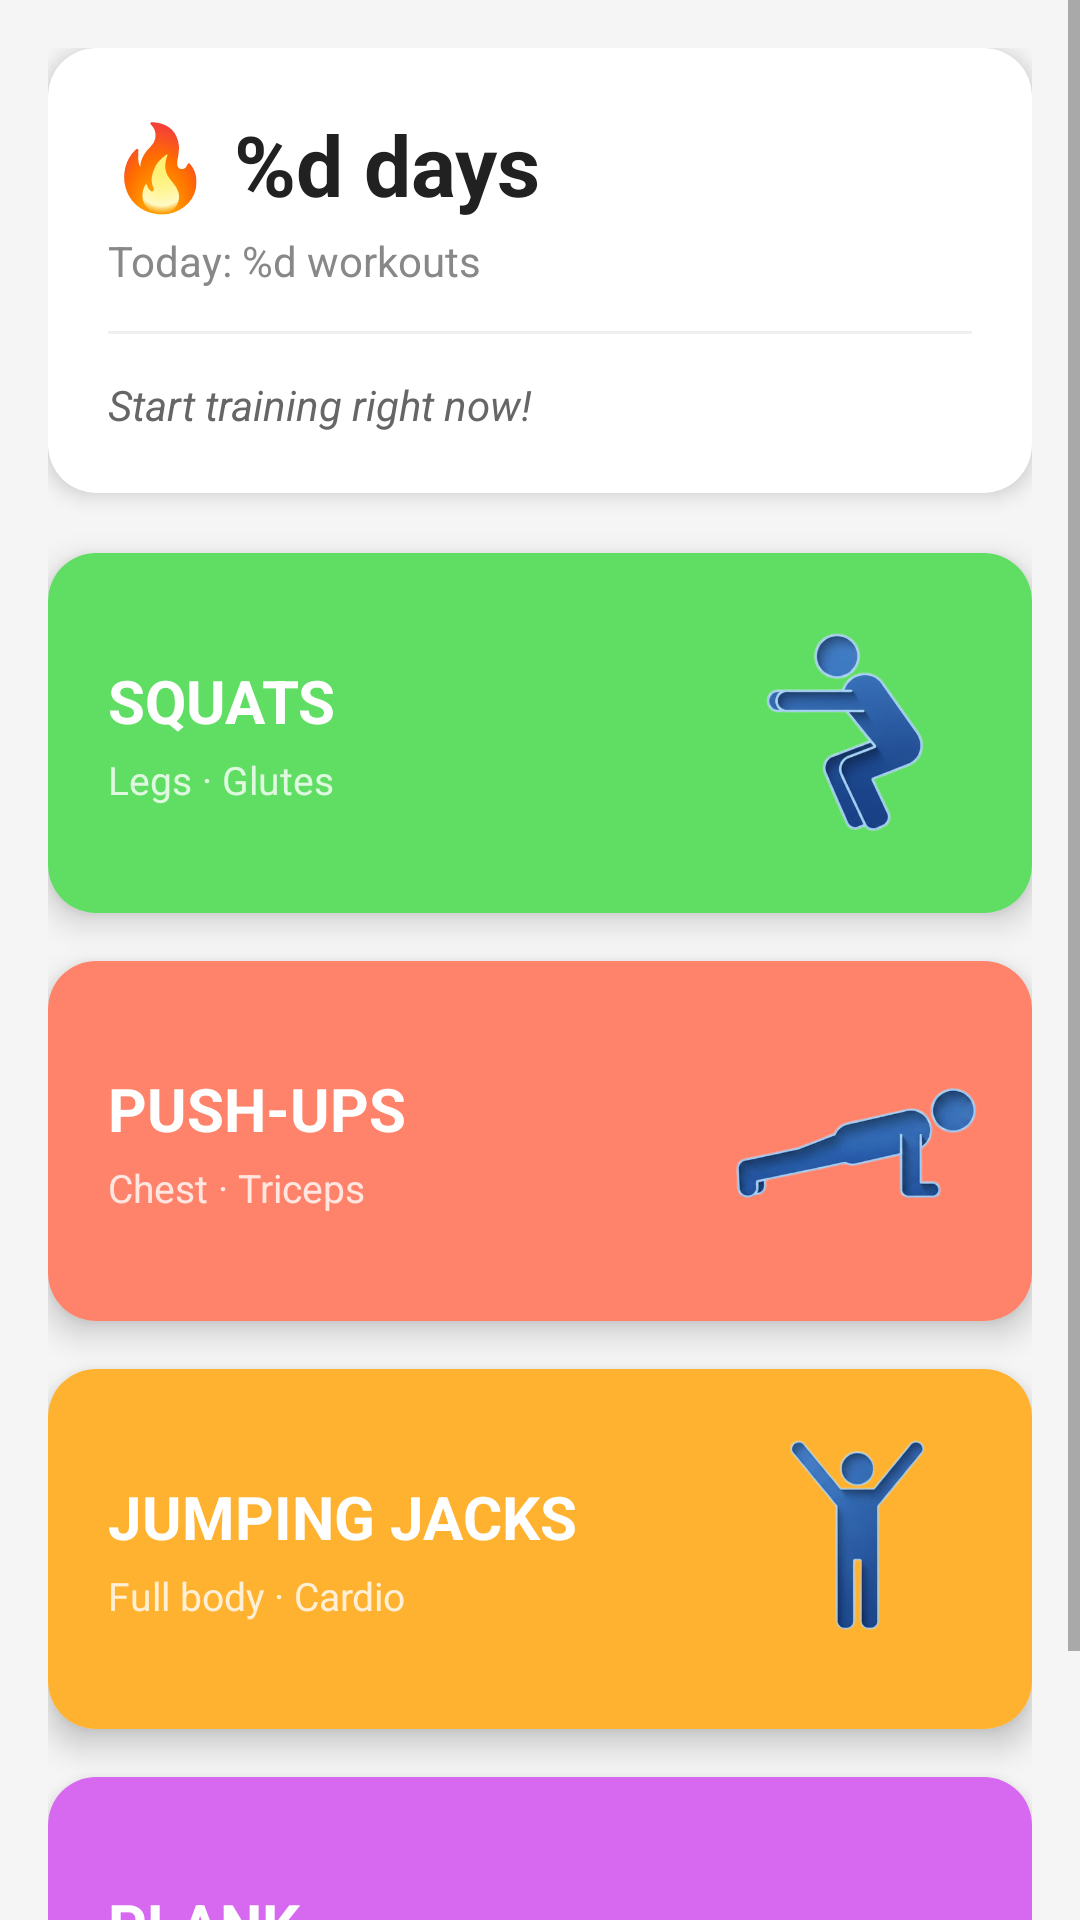

Named icons in this screenshot (1080w x 1920h) and their centers, point (x, y):
PUSH-UPS: point (856, 1143)
SQUATS: point (845, 732)
